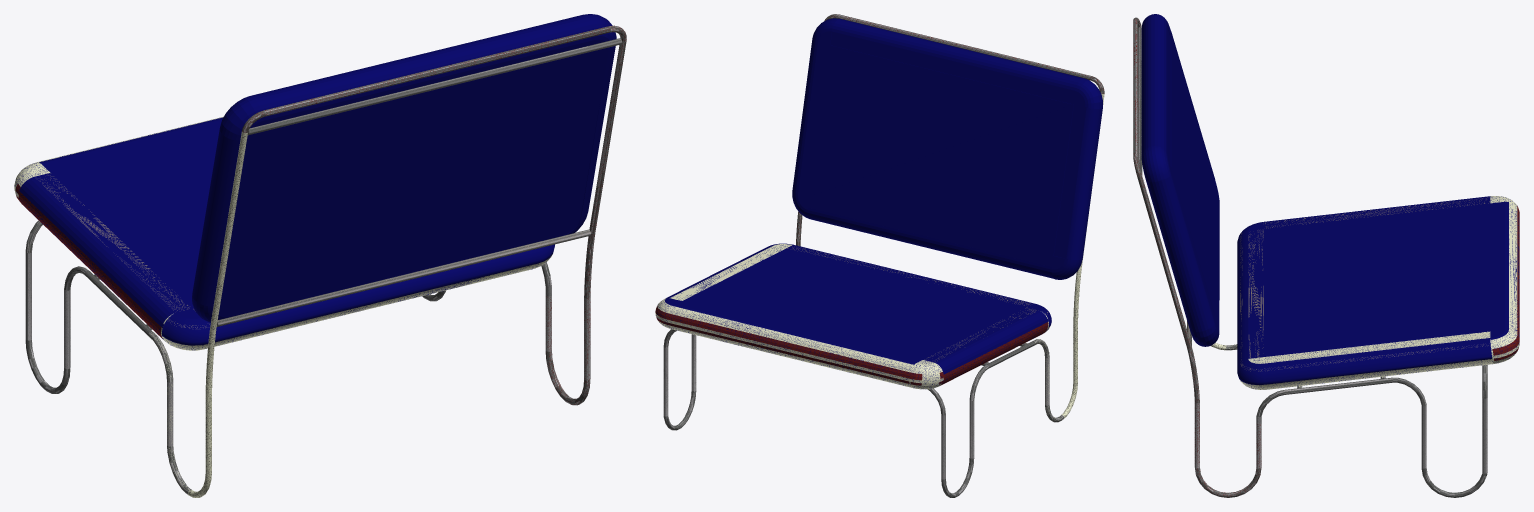
The picture shows the model from 3 angles, left to right: view 1: azimuth 30°, elevation 25°; view 2: azimuth 150°, elevation 25°; view 3: azimuth 270°, elevation 25°; orthographic projection. The views are drawn at different scales.
Visible parts, largest first — view 1: mesh5_mesh5-geometry, mesh2_mesh2-geometry, mesh1_mesh1-geometry, mesh4_mesh4-geometry, mesh3_mesh3-geometry; view 2: mesh5_mesh5-geometry, mesh2_mesh2-geometry, mesh1_mesh1-geometry; view 3: mesh2_mesh2-geometry, mesh5_mesh5-geometry, mesh1_mesh1-geometry, mesh4_mesh4-geometry.
Part boxes in pixels (bbox=[...]): mesh5_mesh5-geometry: bbox=[192, 14, 616, 322]; mesh2_mesh2-geometry: bbox=[14, 116, 554, 350]; mesh1_mesh1-geometry: bbox=[25, 25, 626, 497]; mesh4_mesh4-geometry: bbox=[248, 38, 622, 135]; mesh3_mesh3-geometry: bbox=[216, 229, 590, 326]; mesh5_mesh5-geometry: bbox=[792, 18, 1102, 279]; mesh2_mesh2-geometry: bbox=[655, 243, 1051, 389]; mesh1_mesh1-geometry: bbox=[663, 14, 1104, 497]; mesh2_mesh2-geometry: bbox=[1237, 196, 1519, 389]; mesh5_mesh5-geometry: bbox=[1141, 14, 1219, 346]; mesh1_mesh1-geometry: bbox=[1133, 17, 1487, 497]; mesh4_mesh4-geometry: bbox=[1138, 27, 1142, 175].
Size of the model in its own units: 0.5598 by 0.5779 by 0.5938.
